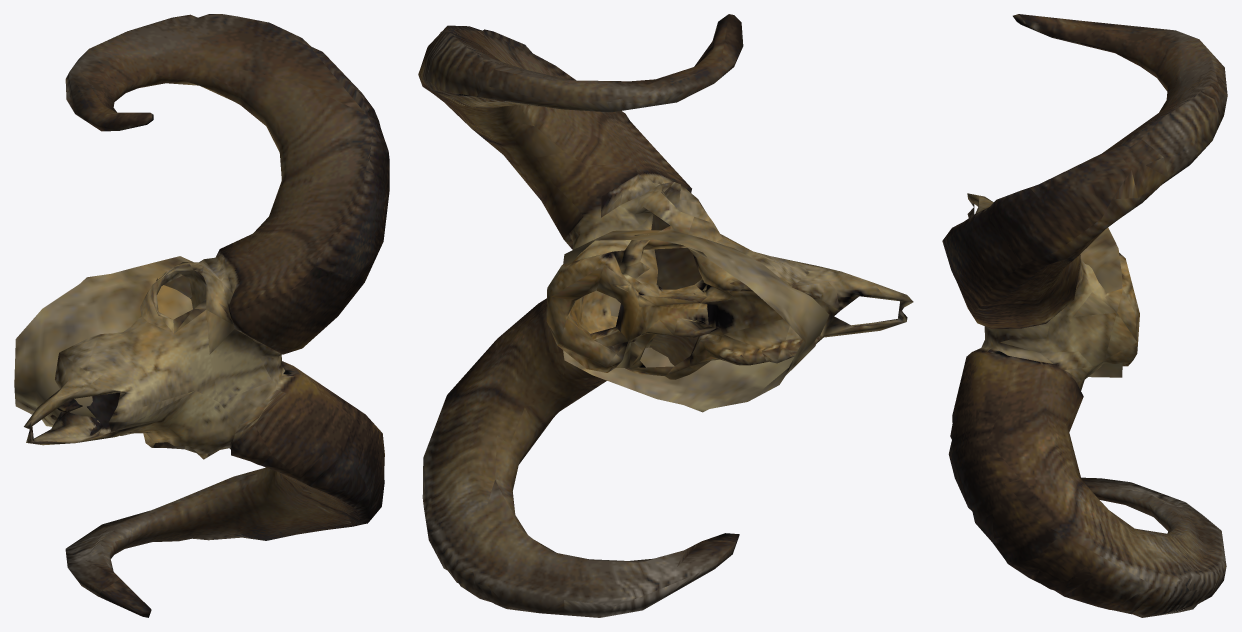
The model's file is M_RamSkullMask.fbx.
3 renders of one model, left to right at view 1: azimuth 30°, elevation 25°; view 2: azimuth 150°, elevation 25°; view 3: azimuth 270°, elevation 25°, orthographic. The views are drawn at different scales.
Visible parts, largest first — view 1: 14_bighorn_sheep.001; view 2: 14_bighorn_sheep.001; view 3: 14_bighorn_sheep.001.
Part boxes in pixels (left/top/right/bottom): 14_bighorn_sheep.001: left=14, top=14, right=389, bottom=617; 14_bighorn_sheep.001: left=418, top=14, right=913, bottom=617; 14_bighorn_sheep.001: left=942, top=14, right=1227, bottom=617.
Bounding box in the file's own units: 0.3073 × 0.3831 × 0.1914.
